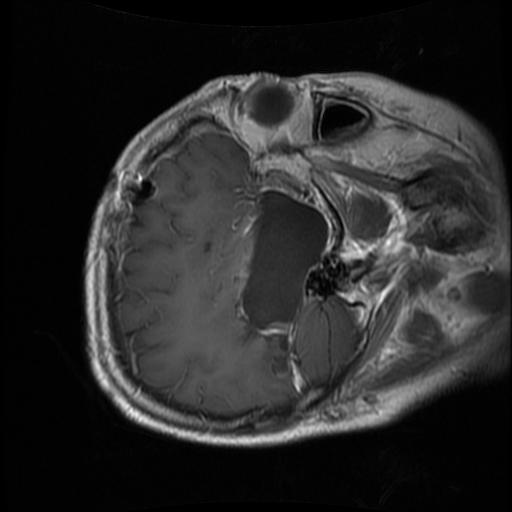glioma: (240, 189, 329, 331)
